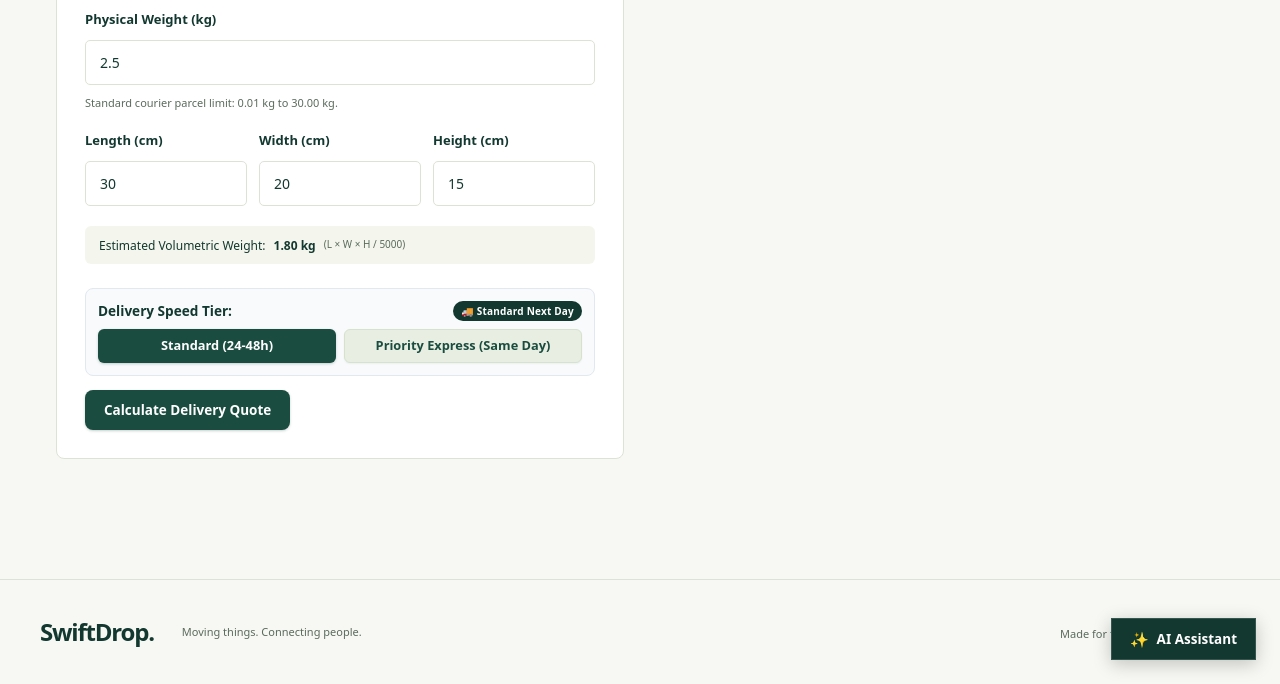
CustomerQuotePage & Booking Workflow (Issue #118) › validates booking address and recipient fields client-side
(page scrolled)
# First calculate quote
Click the button "Calculate Delivery Quote" at (188, 410), box [85,390,290,430]
(page scrolled)
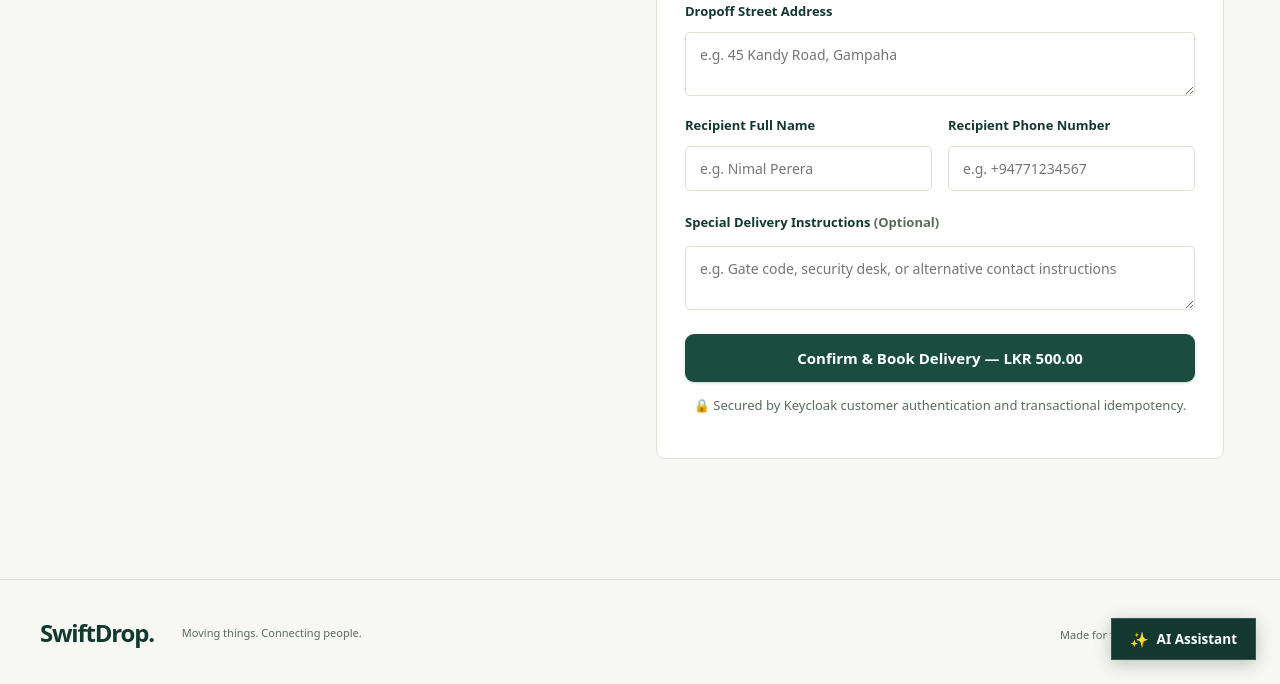
# Attempt booking with empty fields
Click the button "Confirm & Book Delivery — LKR 500.00" at (940, 358), box [685,334,1195,382]
(page scrolled)
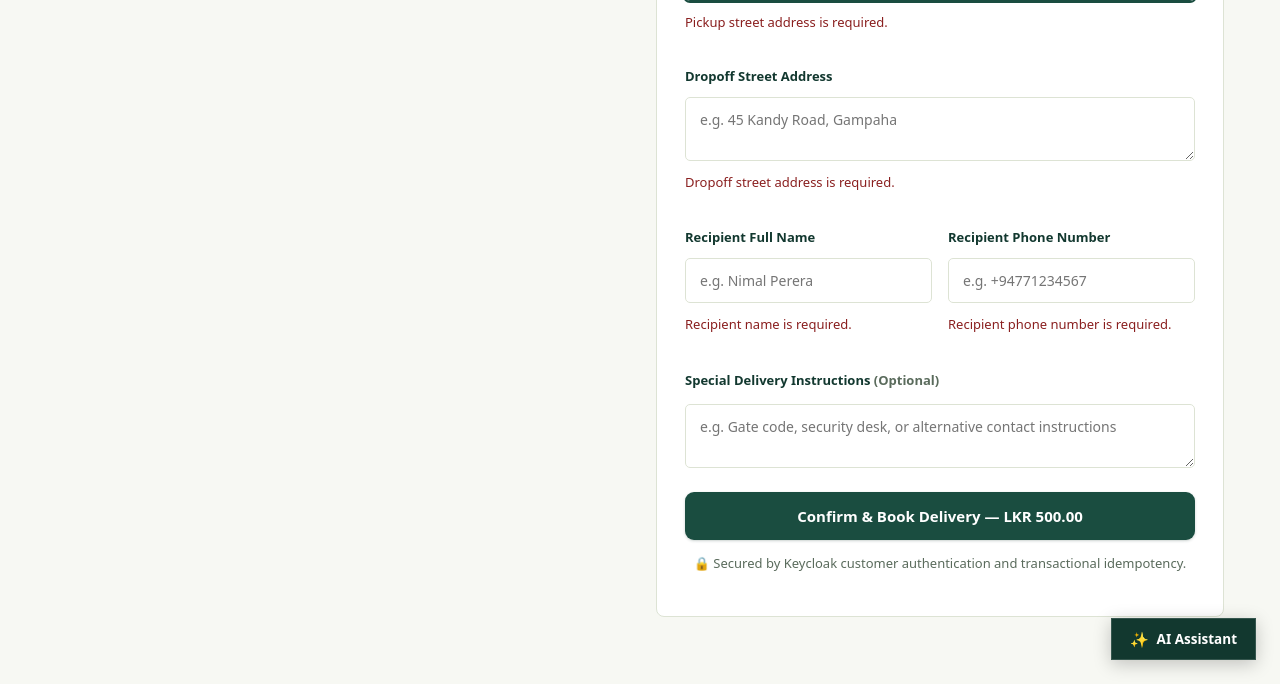
expect the text "Pickup street address is required." is shown: met, box [685,13,888,31]
expect the text "Dropoff street address is required." is shown: met, box [685,173,895,191]
expect the text "Recipient name is required." is shown: met, box [685,315,852,333]
